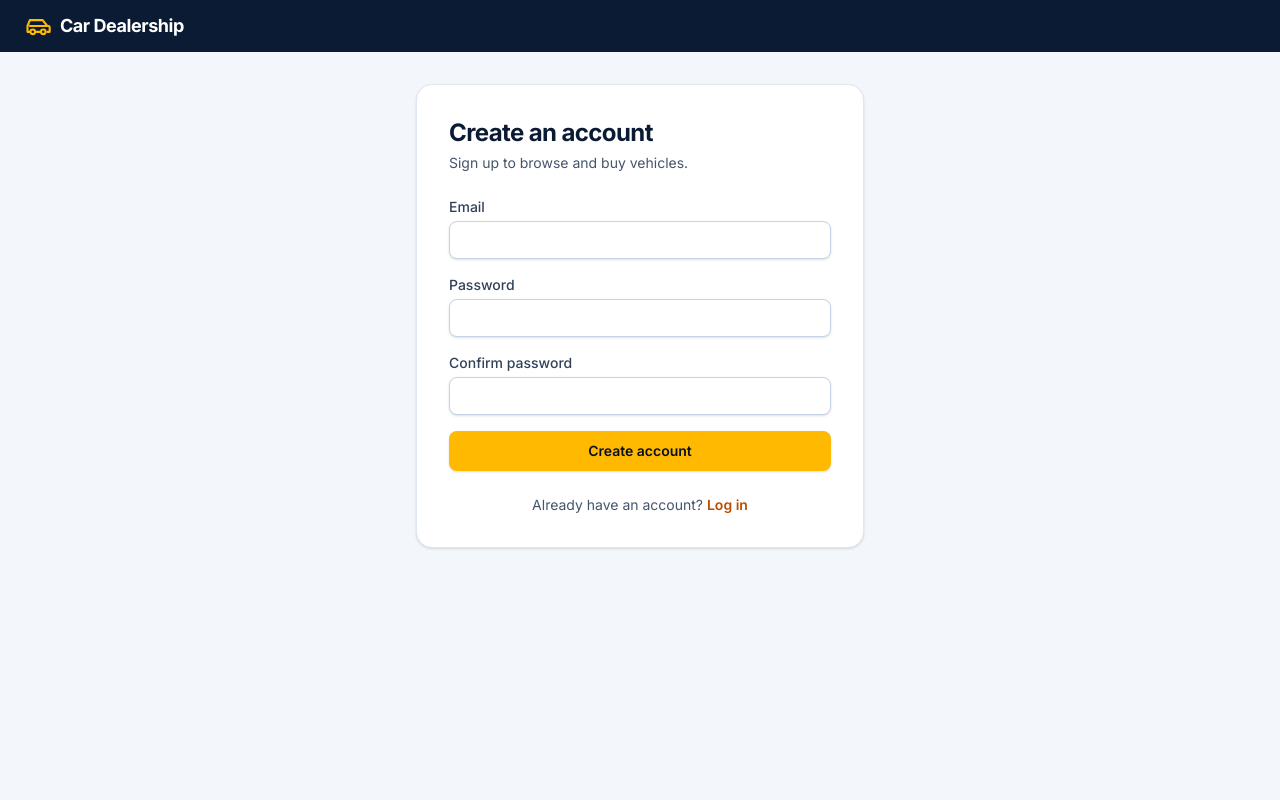
Test case: RegisterPage › requires the confirmation to match the password
In the field labelled "Email": (640, 240) x1=449 y1=221 x2=831 y2=259, type "customer@example.com"
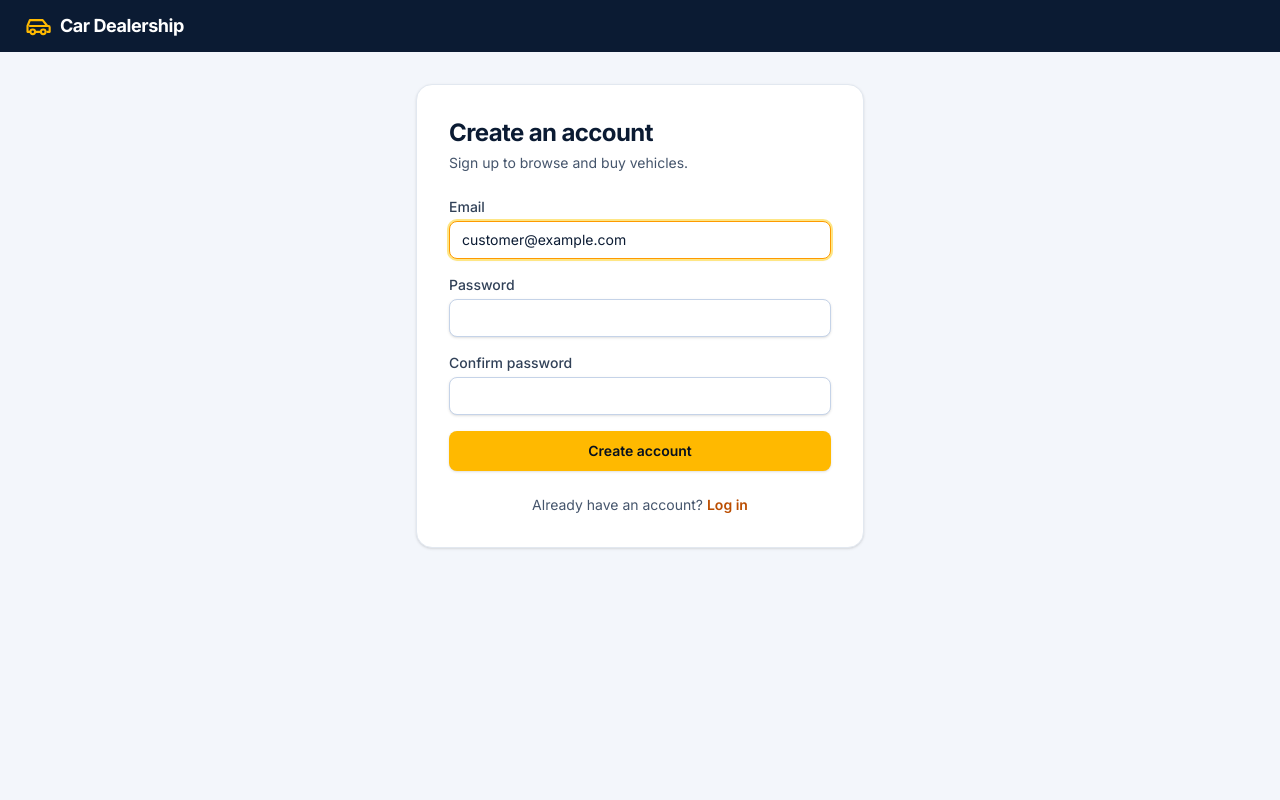
In the password field labelled "Password": (640, 318) x1=449 y1=299 x2=831 y2=337, type "correct-horse"
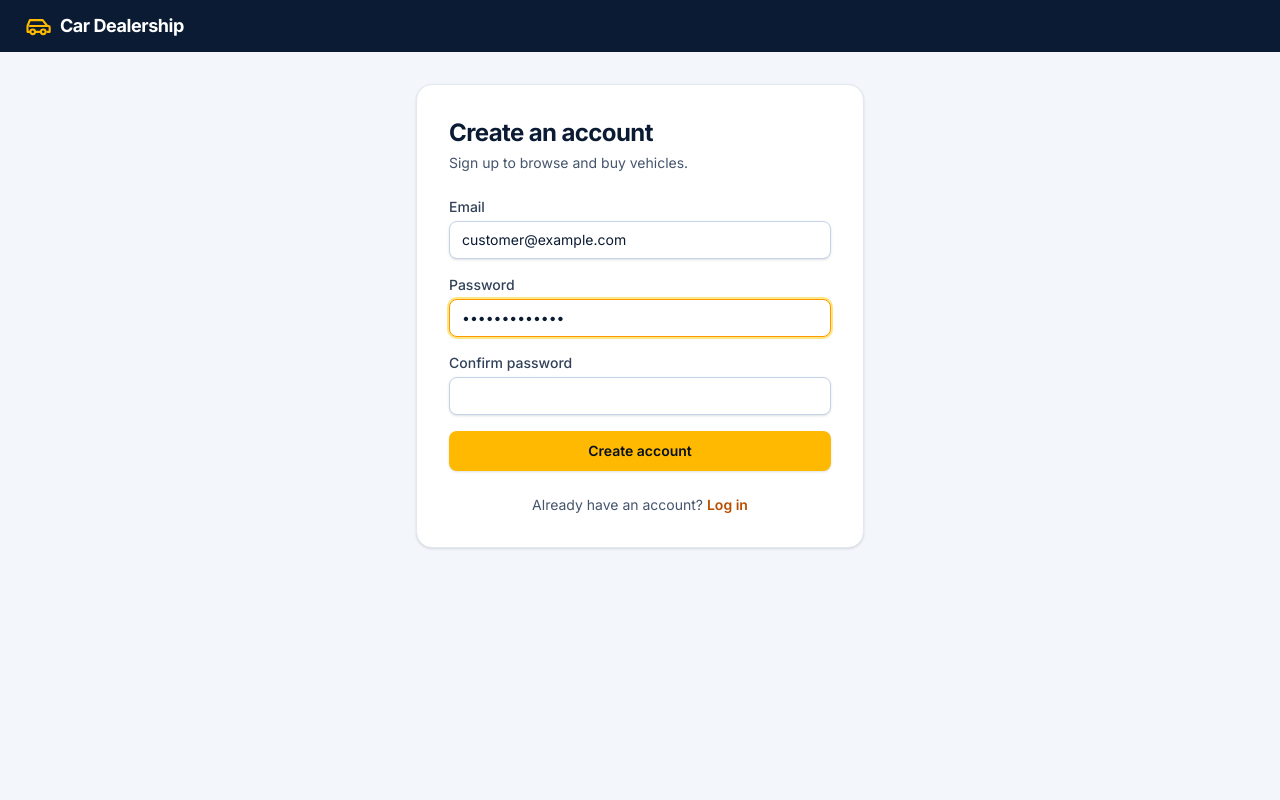
In the password field labelled "Confirm password": (640, 396) x1=449 y1=377 x2=831 y2=415, type "correct-house"
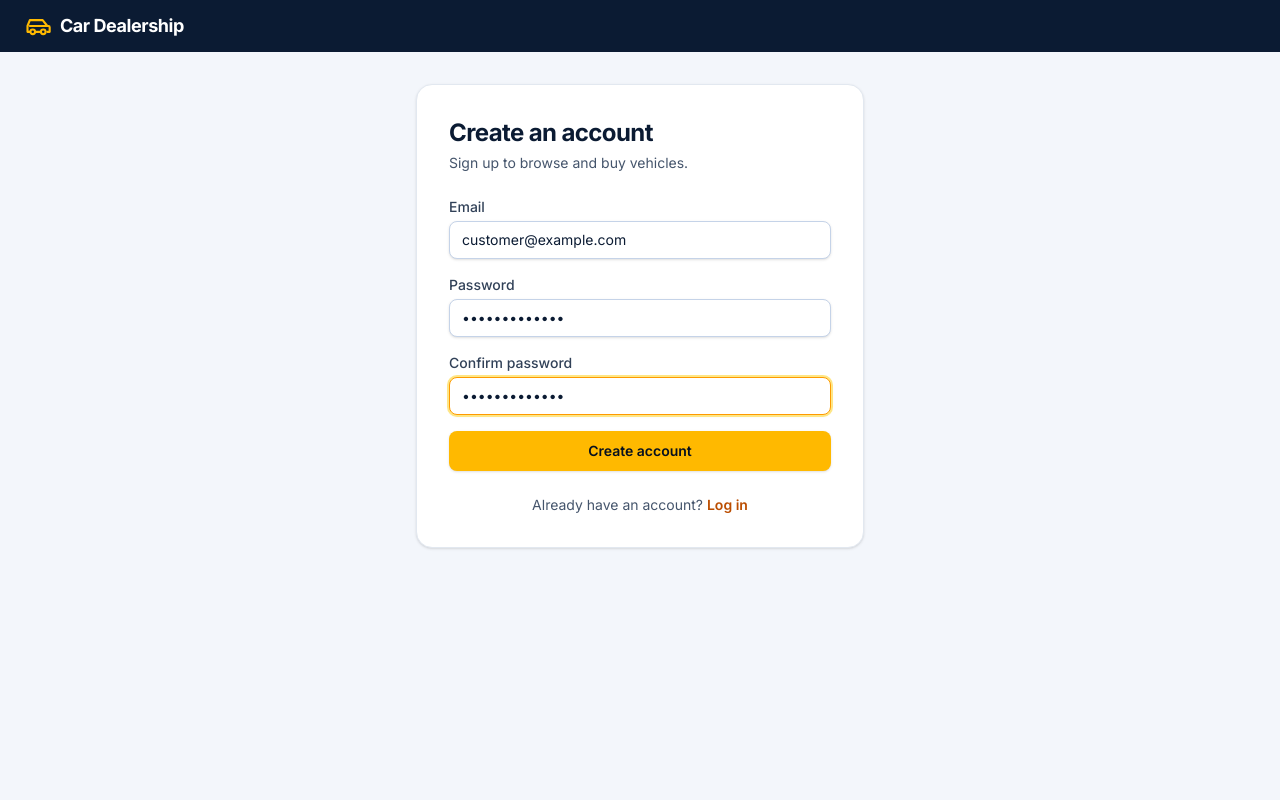
Click the button "Create account": (640, 451) x1=449 y1=431 x2=831 y2=471
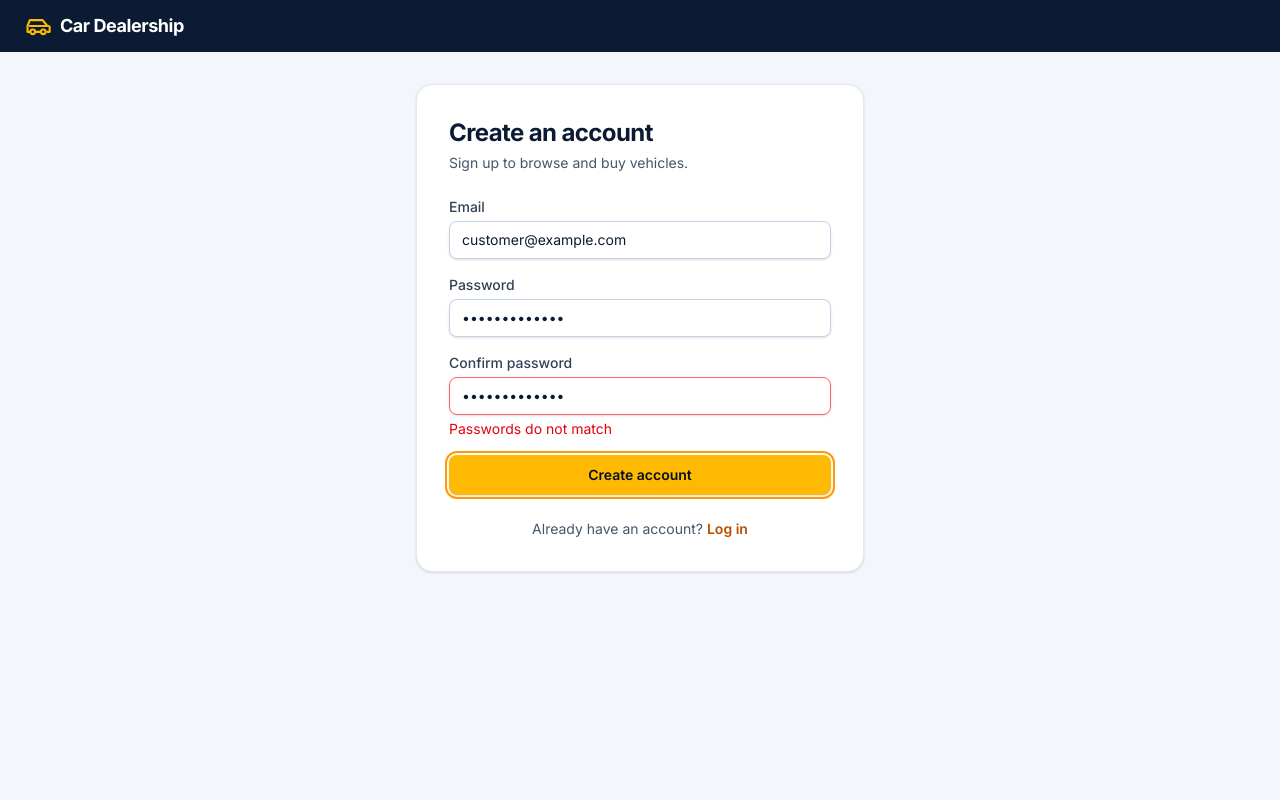
Expected: the text "Passwords do not match" is shown, x1=449 y1=420 x2=612 y2=437
